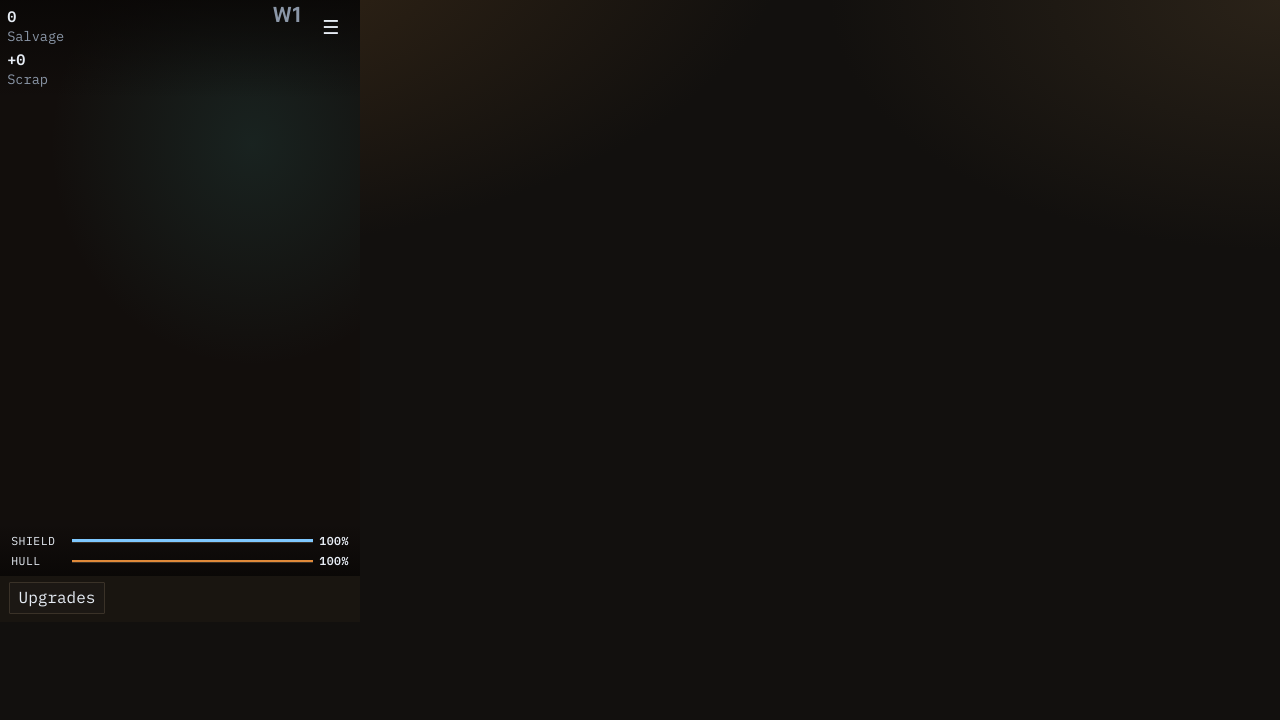
Test case: Leave Sortie UI › always offers Suspend but keeps Withdraw locked before W210
The width and height of the screenshot is (1280, 720).
Click the button "☰".
click(331, 27)  # box [309, 5, 353, 49]
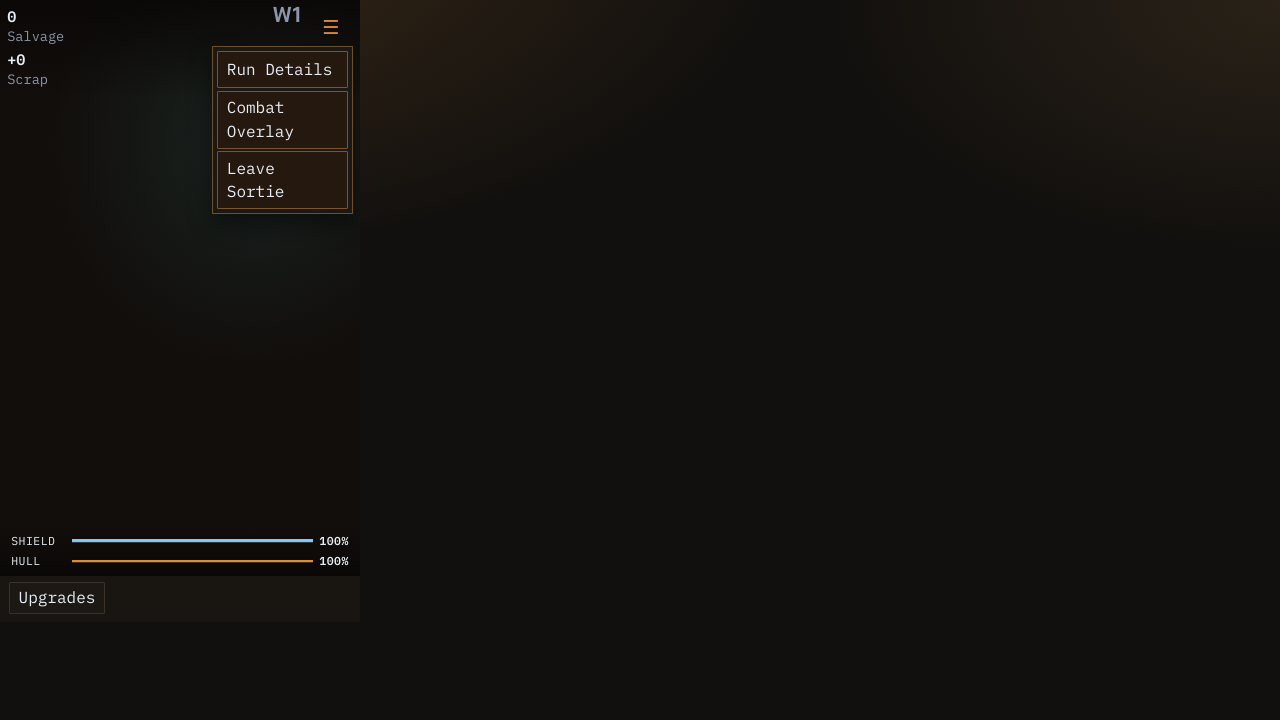
Click the menu item "Leave Sortie".
click(282, 180)  # box [217, 151, 348, 209]
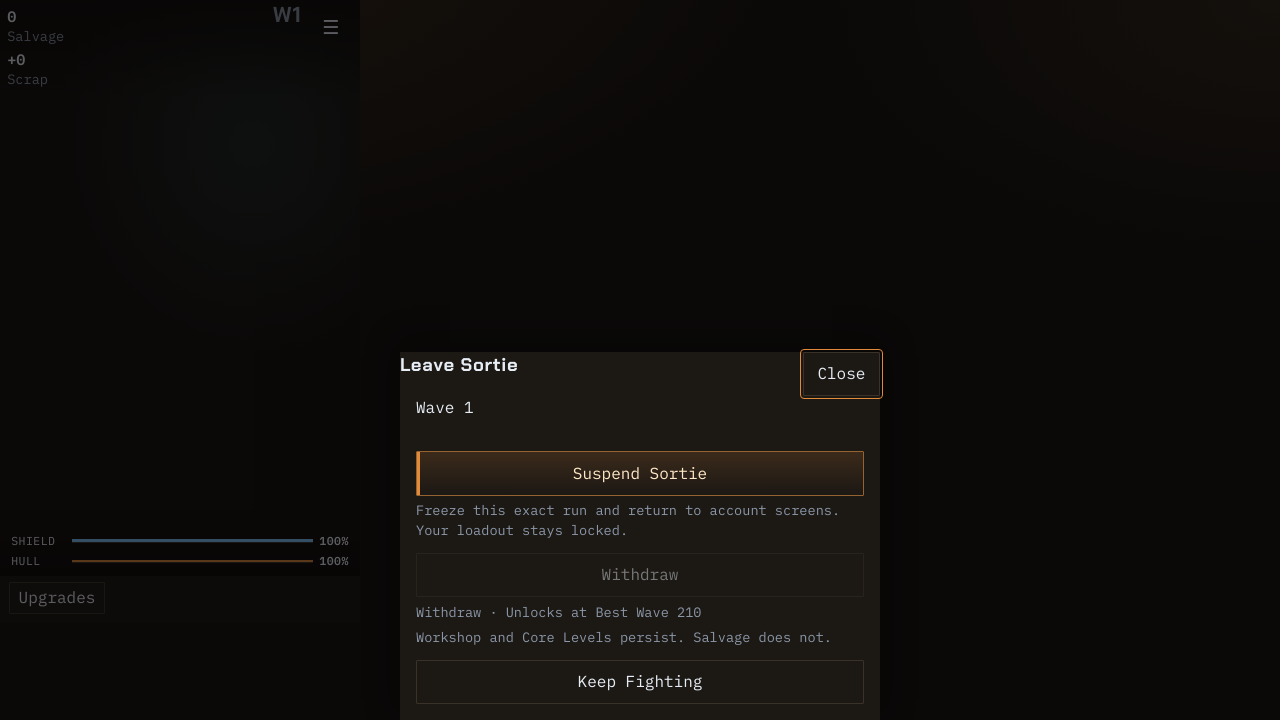
Expected: the button "Suspend Sortie" is shown, [416, 451, 864, 496]
Expected: the button "Withdraw" is disabled, [416, 553, 864, 597]
Expected: the text "Withdraw · Unlocks at Best Wave 210" is shown, [416, 603, 702, 621]
